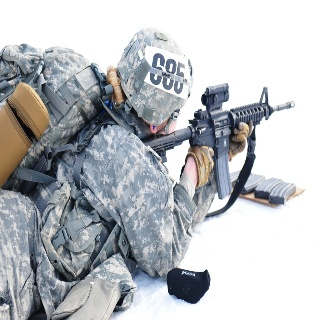rifle: (130, 82, 298, 203)
